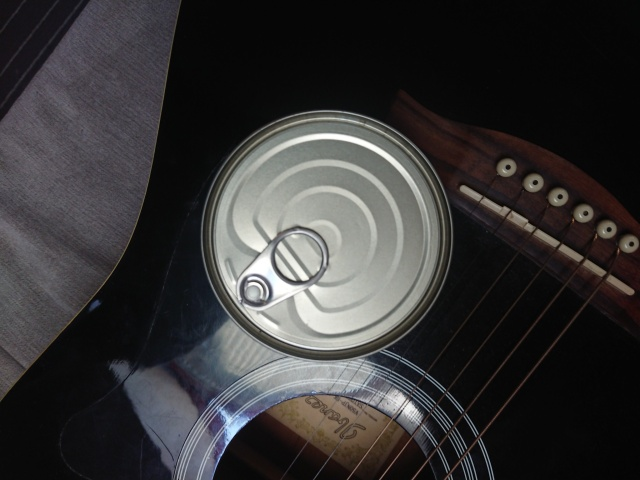Giana Tuna Salad Mexico 185g: (195, 107, 458, 366)
